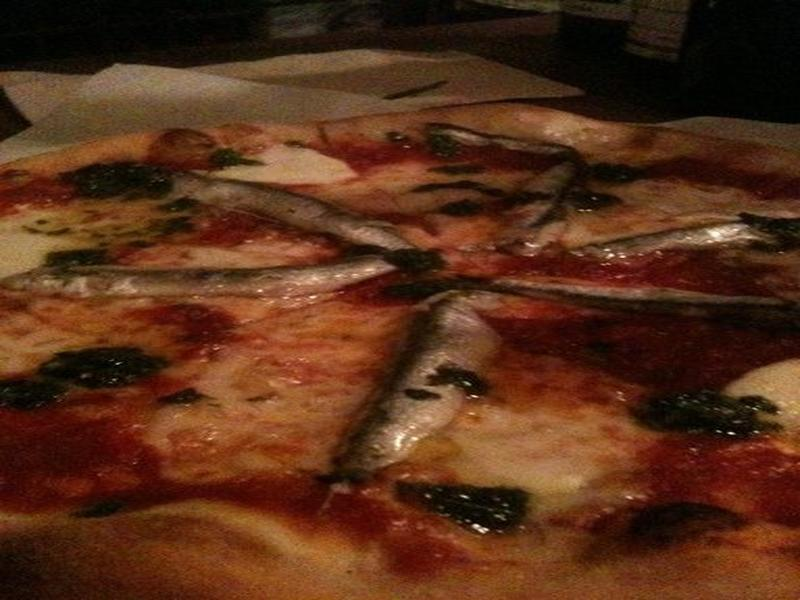pizza: (18, 18, 794, 600)
